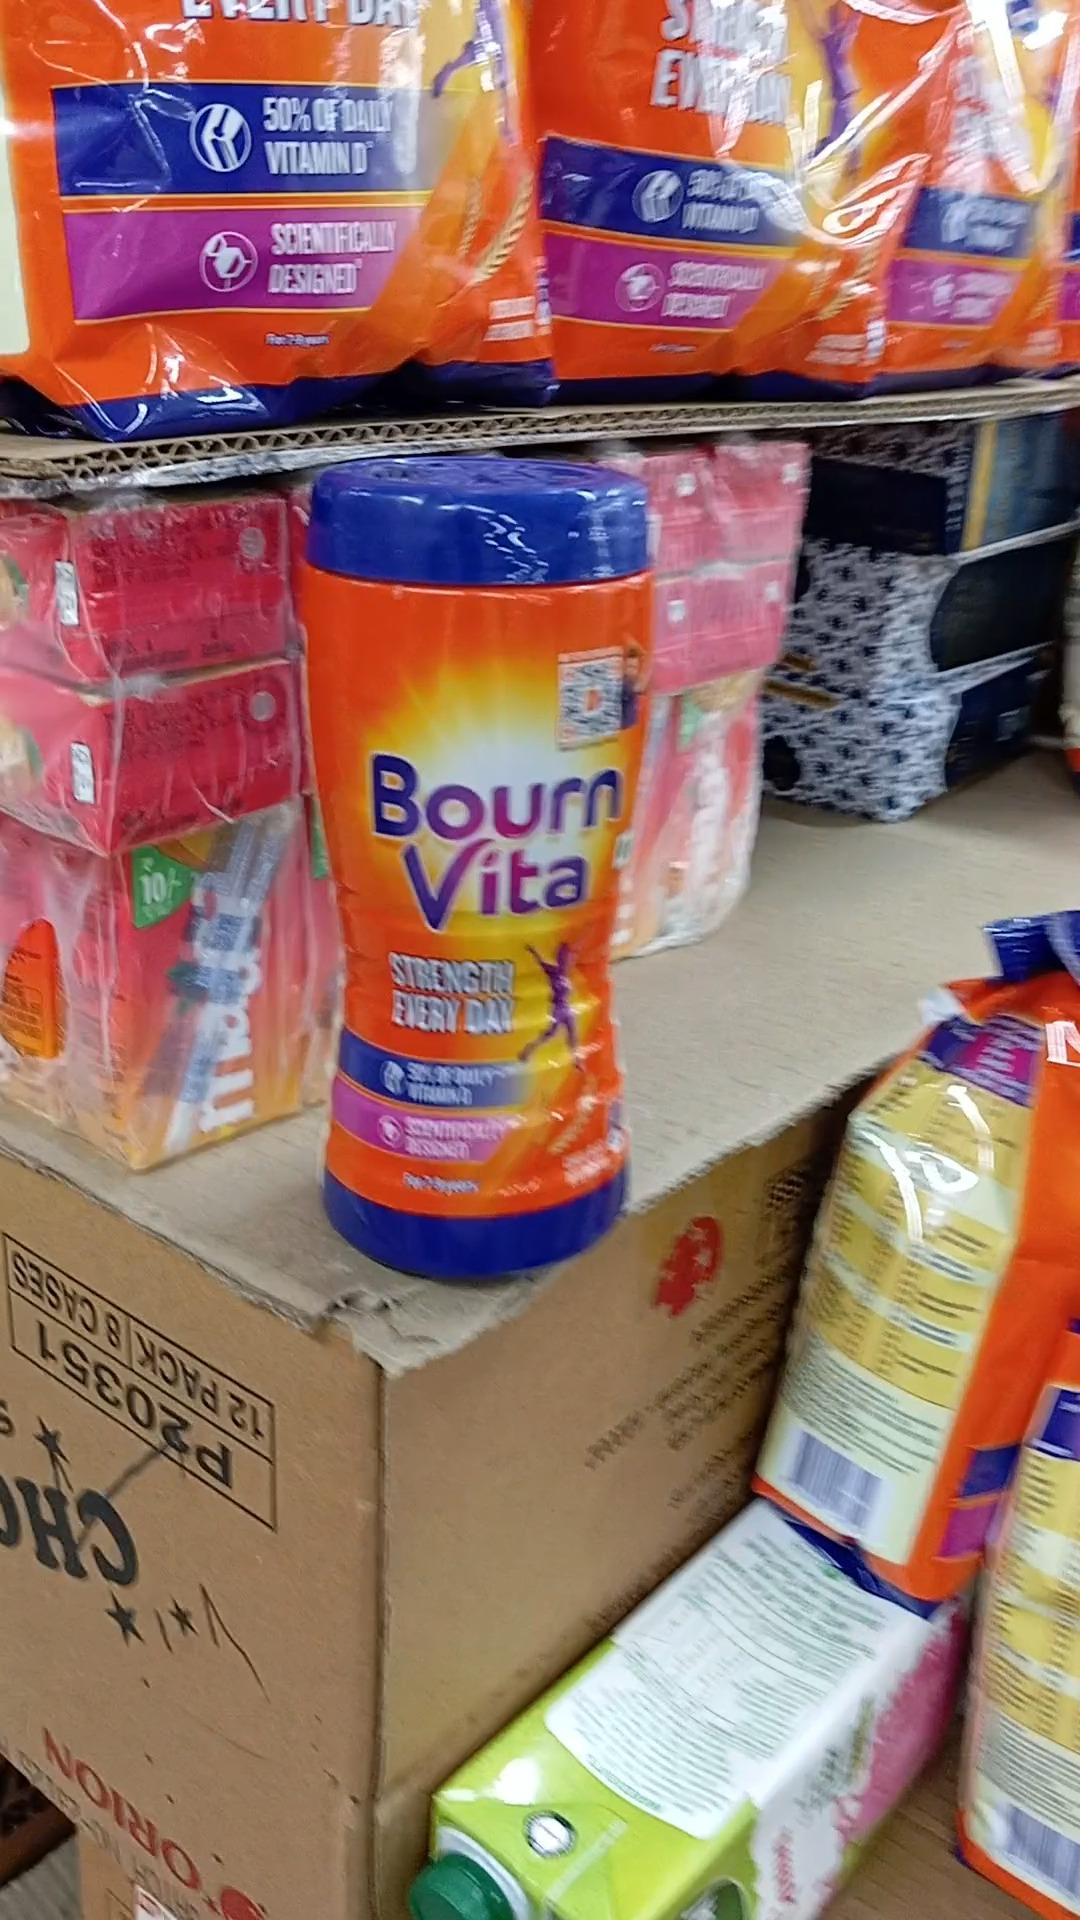BOURN_VITA_200_G_JAR: (302, 435, 646, 1292)
